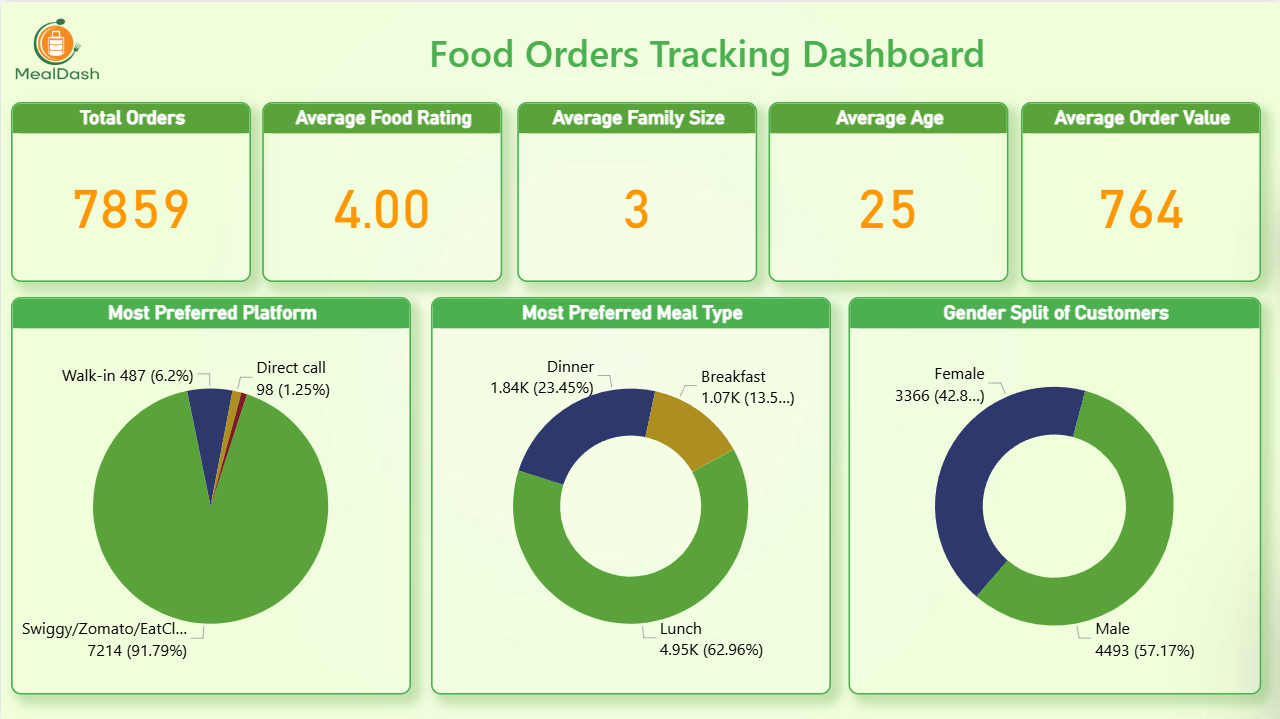

The dashboard page shown, as its layout file describes it:
{"tool":"powerbi","page":{"name":"Food Orders","canvas":[1280,720],"ordinal":0},"visuals":[{"type":"image","box":[10,0,93.3,93.3],"z":0},{"type":"textbox","box":[390,20,632.5,60],"z":1000},{"type":"card","title":"Total Orders","fields":{"Values":["CountNonNull(Data.Sl. No)"]},"box":[10,100,240,180],"z":2000},{"type":"card","title":"Average Food Rating","fields":{"Values":["Avg(Data.Food Rating )"]},"box":[261.8,100.1,240.1,179.8],"z":3000},{"type":"card","title":"Average Family Size","fields":{"Values":["Avg(Data.Family size)"]},"box":[515.6,100,240,180],"z":4000},{"type":"card","title":"Average Age","fields":{"Values":["Avg(Data.Age)"]},"box":[766.9,100,240,180],"z":5000},{"type":"card","title":"Average Order Value","fields":{"Values":["Avg(Data.Product Price)"]},"box":[1019.4,100.1,240.1,180],"z":6000},{"type":"pieChart","title":"Most Preferred Platform","fields":{"Category":["Data.Medium"],"Y":["CountNonNull(Data.Sl. No)"]},"box":[10,295,400,397.5],"z":7000},{"type":"donutChart","title":"Most Preferred Meal Type","fields":{"Category":["Data.Tiffin"],"Y":["CountNonNull(Data.Sl. No)"]},"box":[430,295,400,397.5],"z":8000},{"type":"donutChart","title":"Gender Split of Customers","fields":{"Category":["Data.Gender"],"Y":["CountNonNull(Data.Sl. No)"]},"box":[847.5,295,412.5,397.5],"z":9000}]}

Visuals, with their boxes in screenshot pixels (x1, y1, x2, y2), scaled from the page's 1280x720 canvas onto the 1280x719 screenshot:
image: (x1=10, y1=0, x2=103, y2=93)
textbox: (x1=390, y1=20, x2=1022, y2=80)
"Total Orders" card: (x1=10, y1=100, x2=250, y2=280)
"Average Food Rating" card: (x1=262, y1=100, x2=502, y2=280)
"Average Family Size" card: (x1=516, y1=100, x2=756, y2=280)
"Average Age" card: (x1=767, y1=100, x2=1007, y2=280)
"Average Order Value" card: (x1=1019, y1=100, x2=1260, y2=280)
"Most Preferred Platform" pieChart: (x1=10, y1=295, x2=410, y2=692)
"Most Preferred Meal Type" donutChart: (x1=430, y1=295, x2=830, y2=692)
"Gender Split of Customers" donutChart: (x1=848, y1=295, x2=1260, y2=692)
